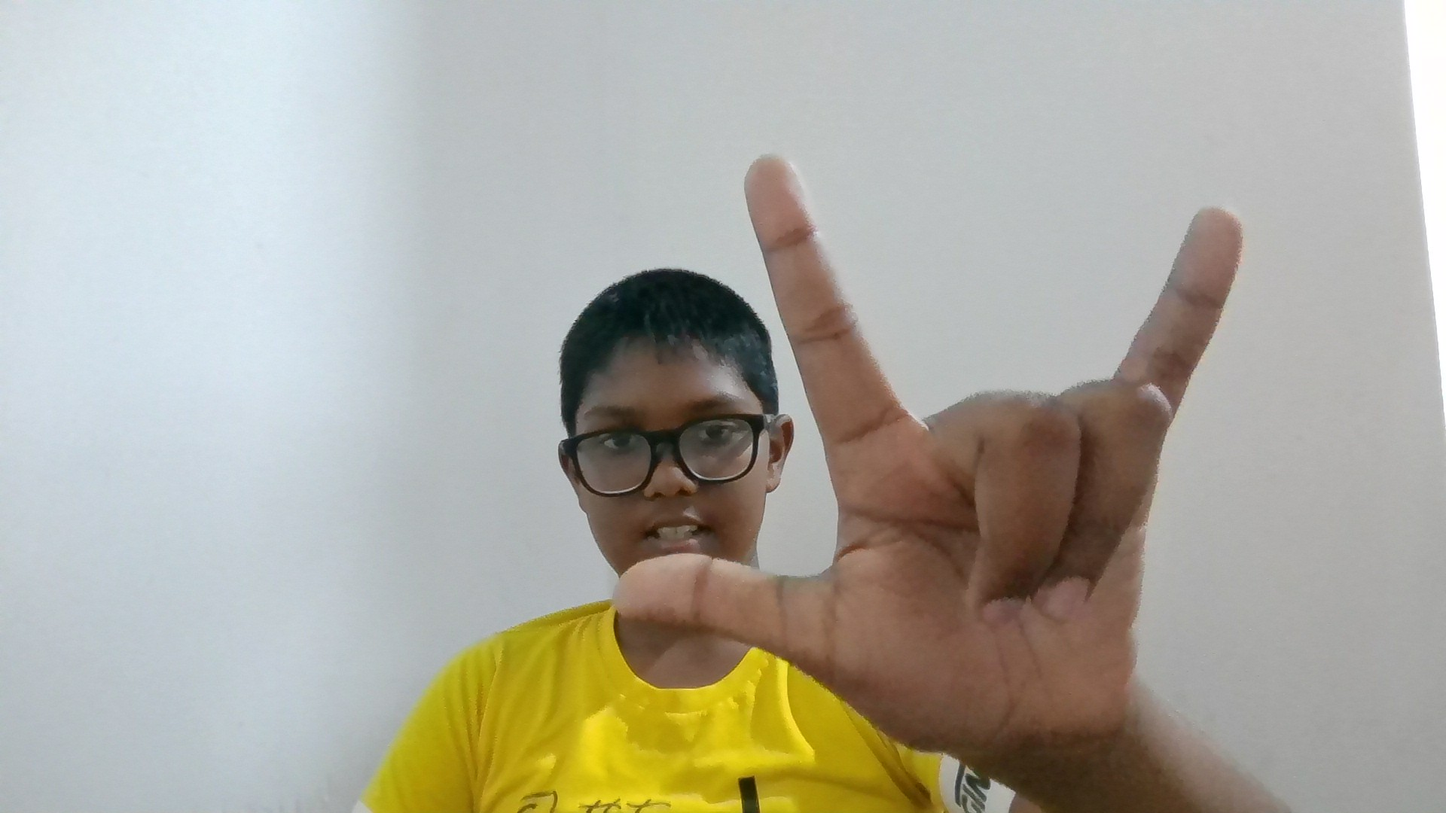I Love You: (642, 82, 1250, 744)
